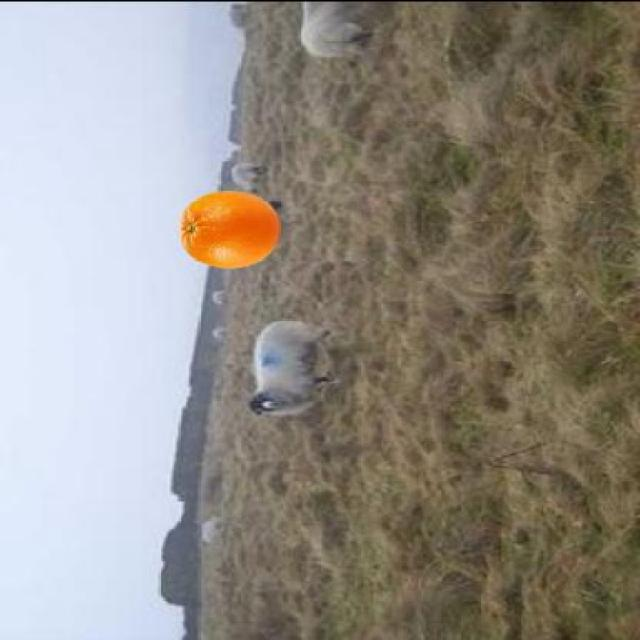Orange: (177, 188, 281, 269)
